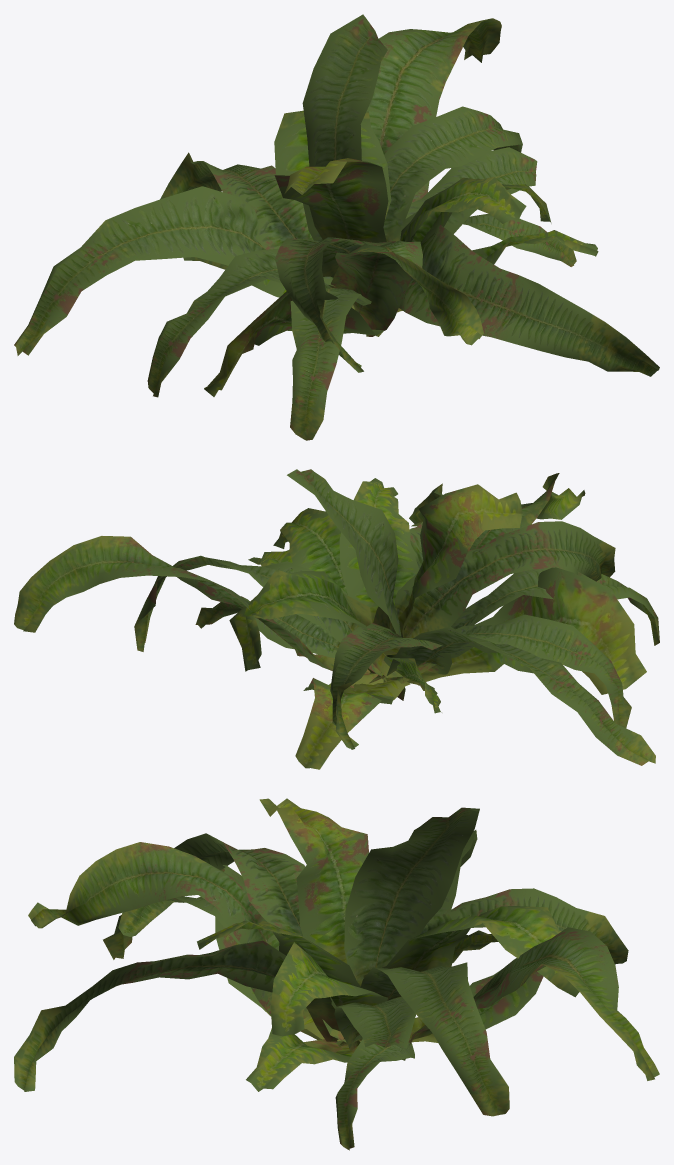
Rendered from SM_Fern_02.gltf.
3 renders of one model, top to bottom at view 1: azimuth 30°, elevation 25°; view 2: azimuth 150°, elevation 25°; view 3: azimuth 270°, elevation 25°, orthographic. The views are drawn at different scales.
Parts seen in each view (by area): view 1: SM_Fern_02; view 2: SM_Fern_02; view 3: SM_Fern_02.
Part boxes in pixels (x1,y1,x2,y2): SM_Fern_02: (14,14,659,440); SM_Fern_02: (14,469,659,769); SM_Fern_02: (14,798,659,1150).
Size of the model in its own units: 0.9897 by 0.4277 by 0.8937.
1 material, 1 textured.
